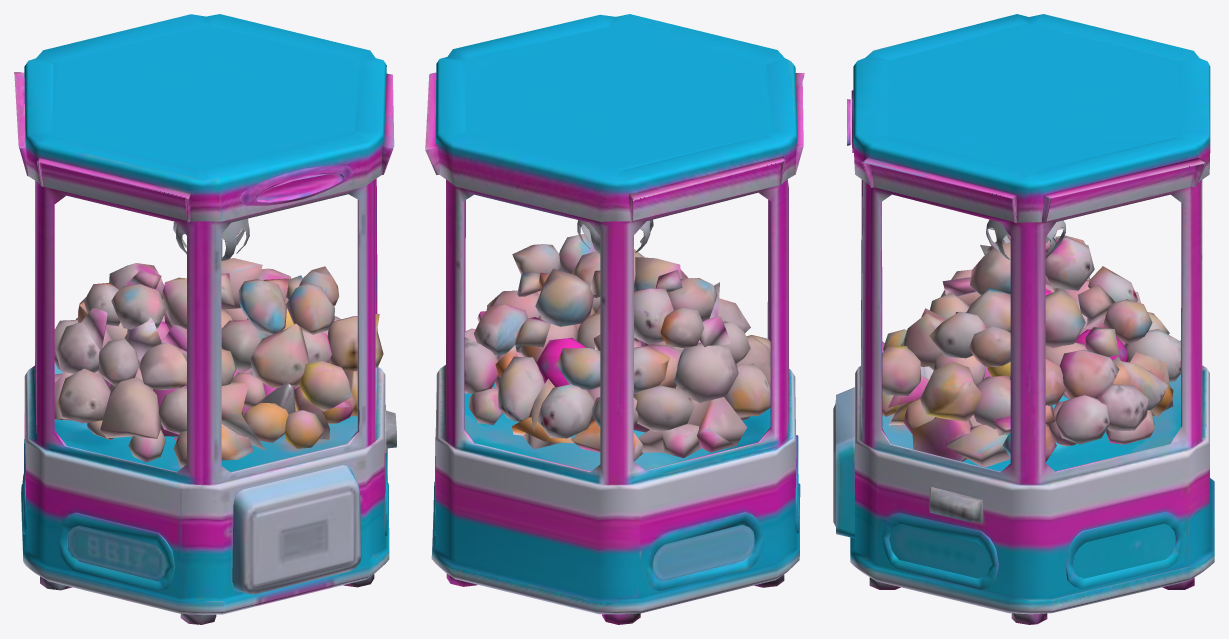
The model's file is claw_machine.glb.
3 renders of one model, left to right at view 1: azimuth 30°, elevation 25°; view 2: azimuth 150°, elevation 25°; view 3: azimuth 270°, elevation 25°, orthographic.
Bounding box in the file's own units: 0.7886 × 0.9512 × 0.7344.
Materials: 1 (1 with a texture image).
